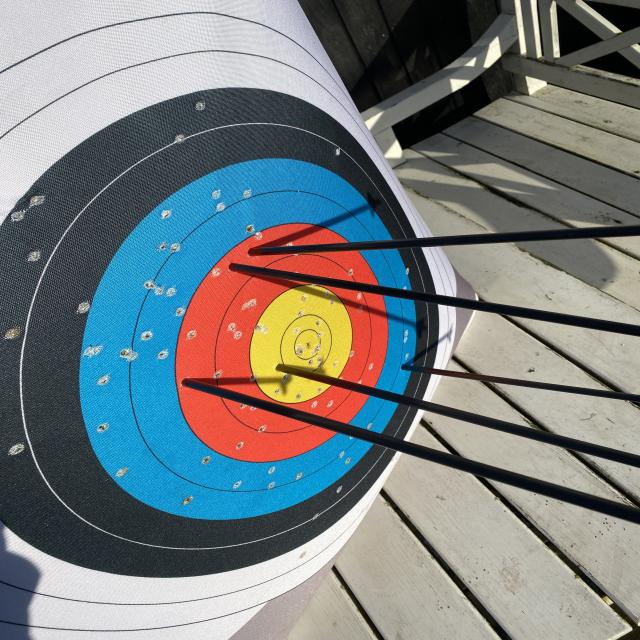Arrow_Blue: (396, 356, 416, 381)
Arrow_Red: (240, 237, 275, 267), (218, 251, 247, 283), (174, 368, 210, 392)
Arrow_Yellow: (266, 356, 302, 384)
